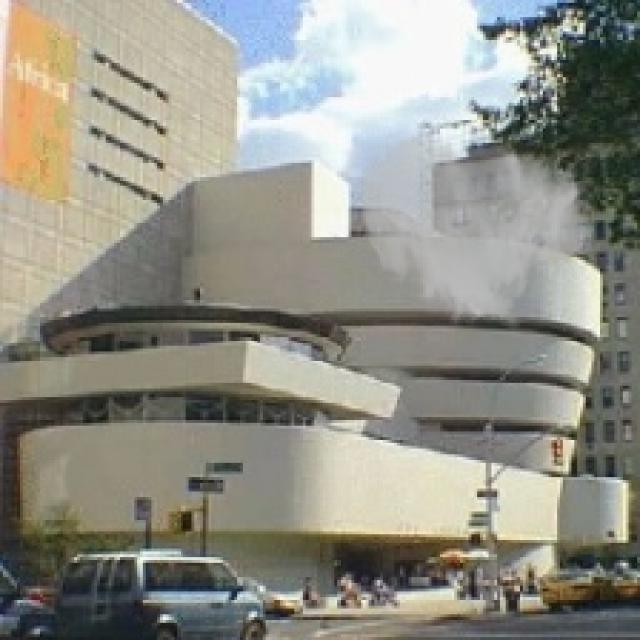Smoke: (352, 132, 597, 332)
